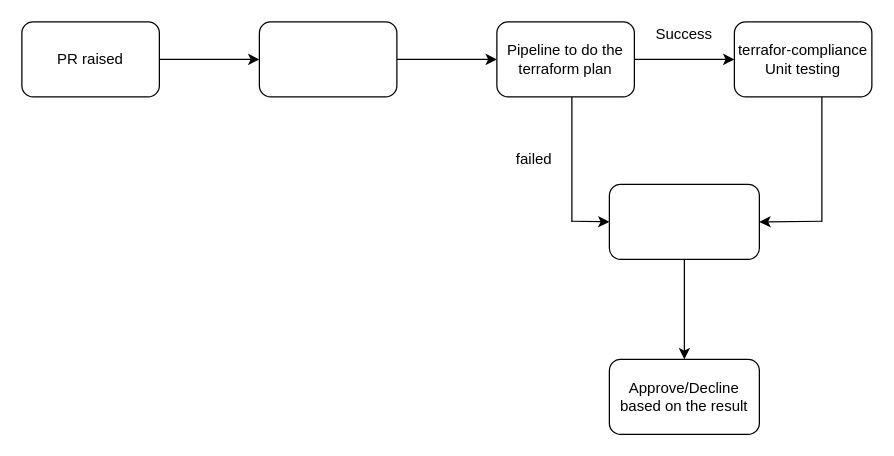
This 894x456 diagram has some shape labels left out. The shapes that lost their labels are listed below. From the top down, each one's centre as x and y in pixels, then its label:
(327,59): Job trigger via webhook
(683,221): Notify bitbucket with results
